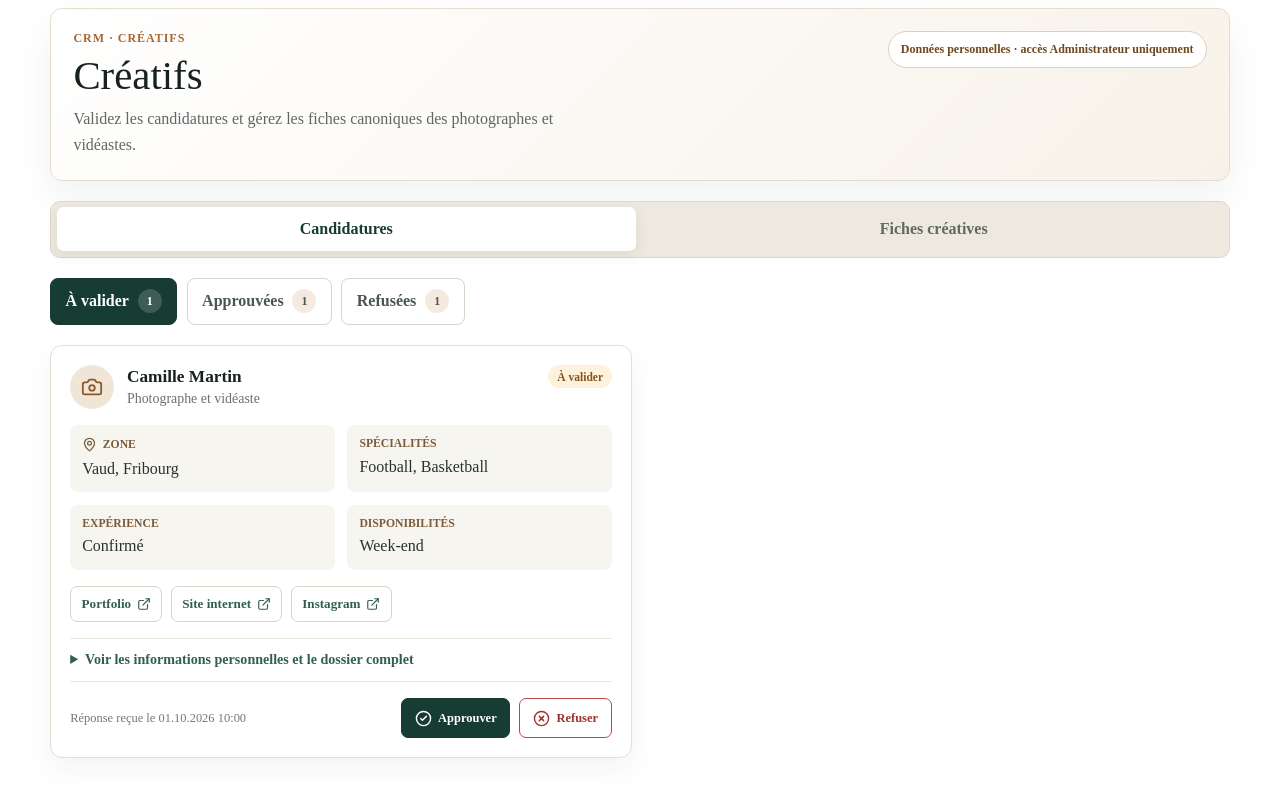
Test: Creative applications Admin UI › filters pending, approved and rejected applications with explicit tabs
This screenshot has width=1280, height=800.
expect the text "Alex Vidéo" is not shown: met
Click the tab "Approuvées 1" at [259, 301], box [187,278,332,325]
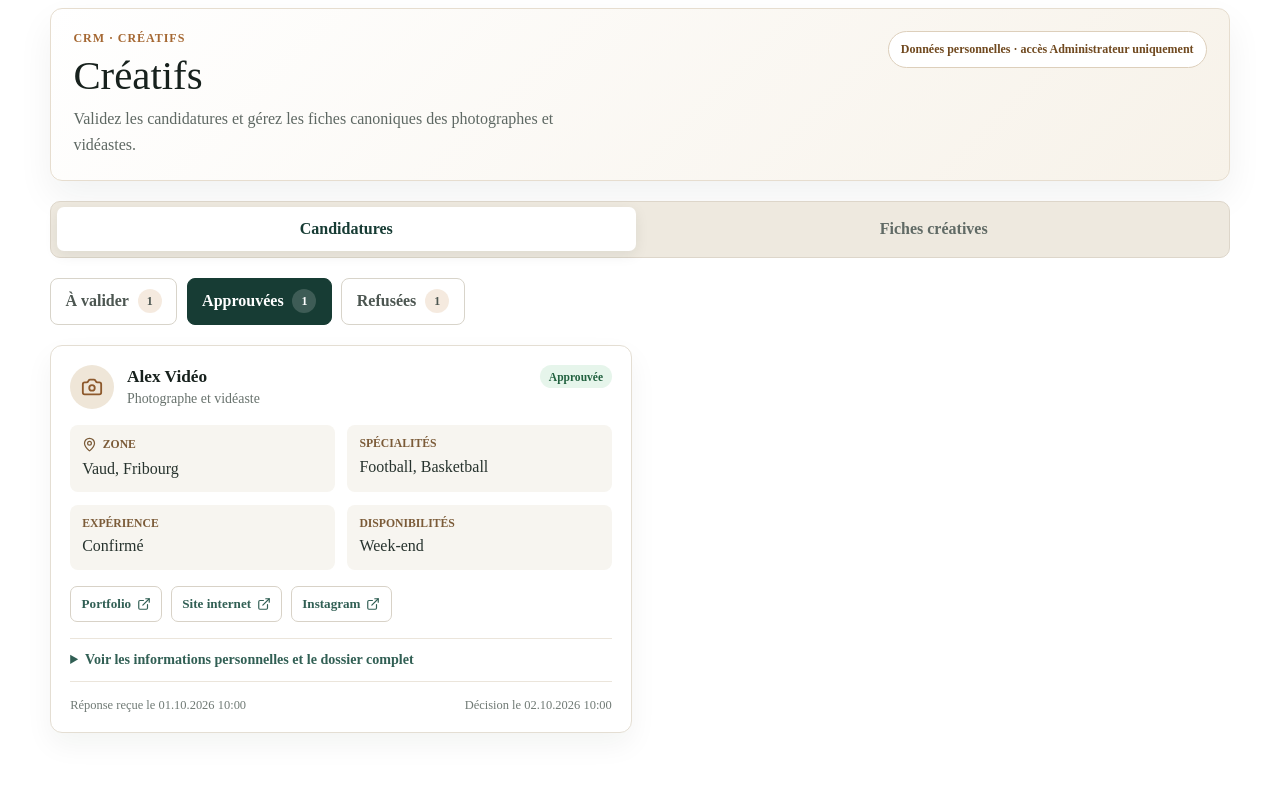
expect the text "Alex Vidéo" is shown: met, box [127,367,207,386]
expect the text "Camille Martin" is gone: met
Click the tab "Refusées 1" at [403, 301], box [341,278,464,325]
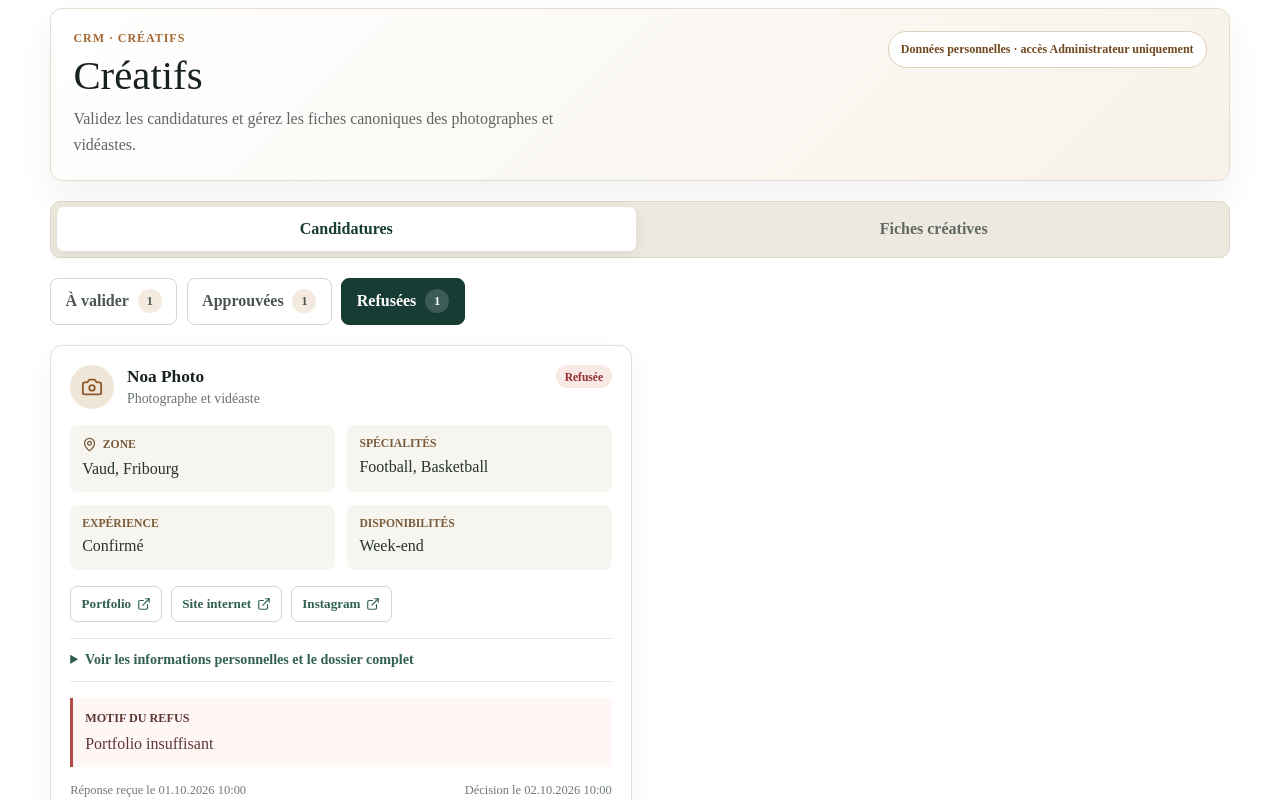
expect the text "Noa Photo" is shown: met, box [127,367,204,386]
